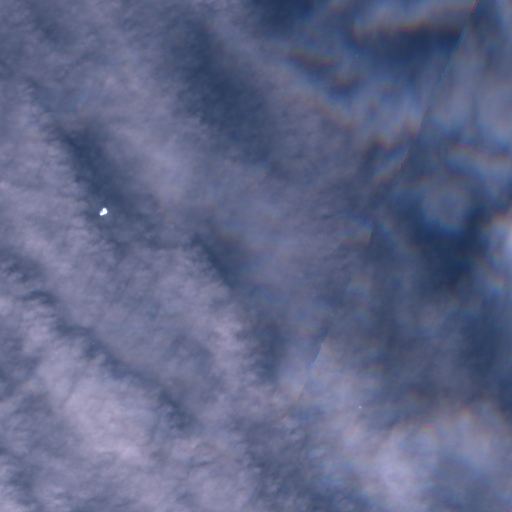Iceberg: (99, 207, 107, 215), (359, 406, 360, 408)
